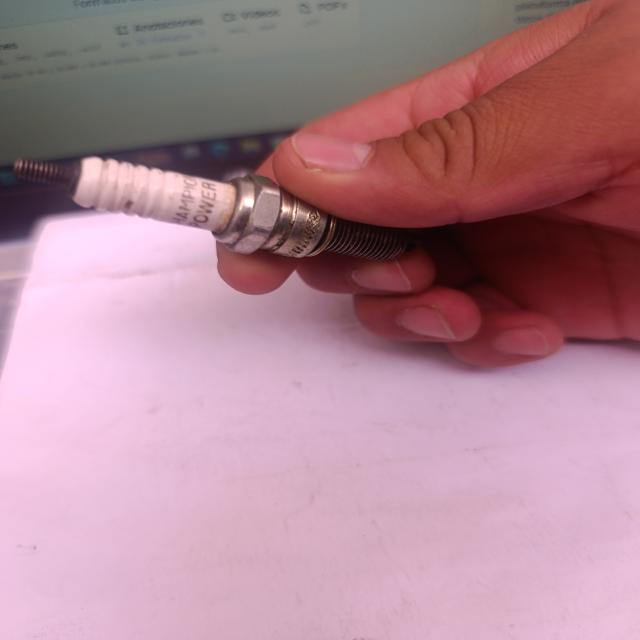bujia: (11, 157, 410, 260)
